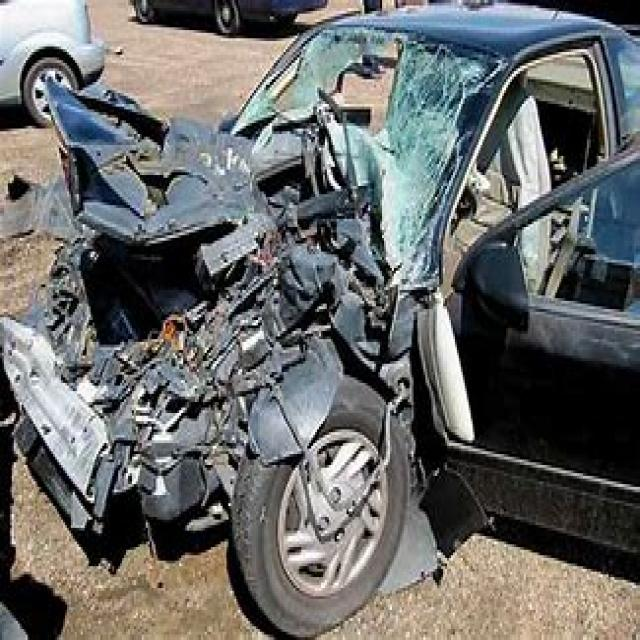Accident: (17, 20, 640, 538)
